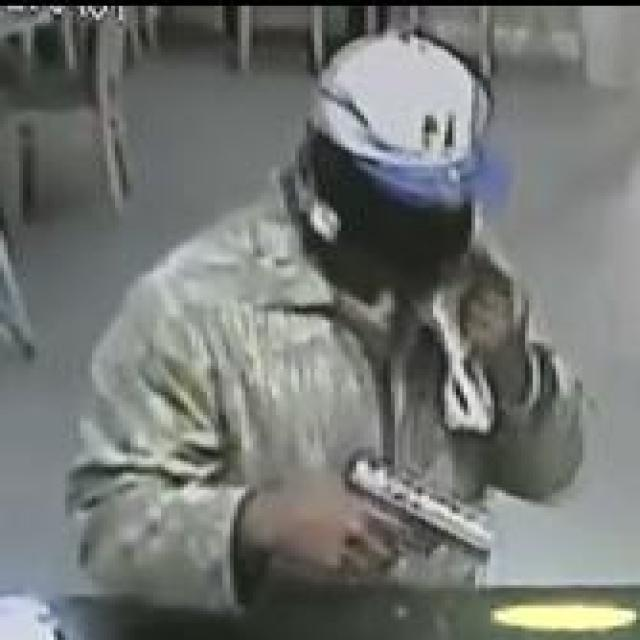Gun: (326, 447, 496, 596)
